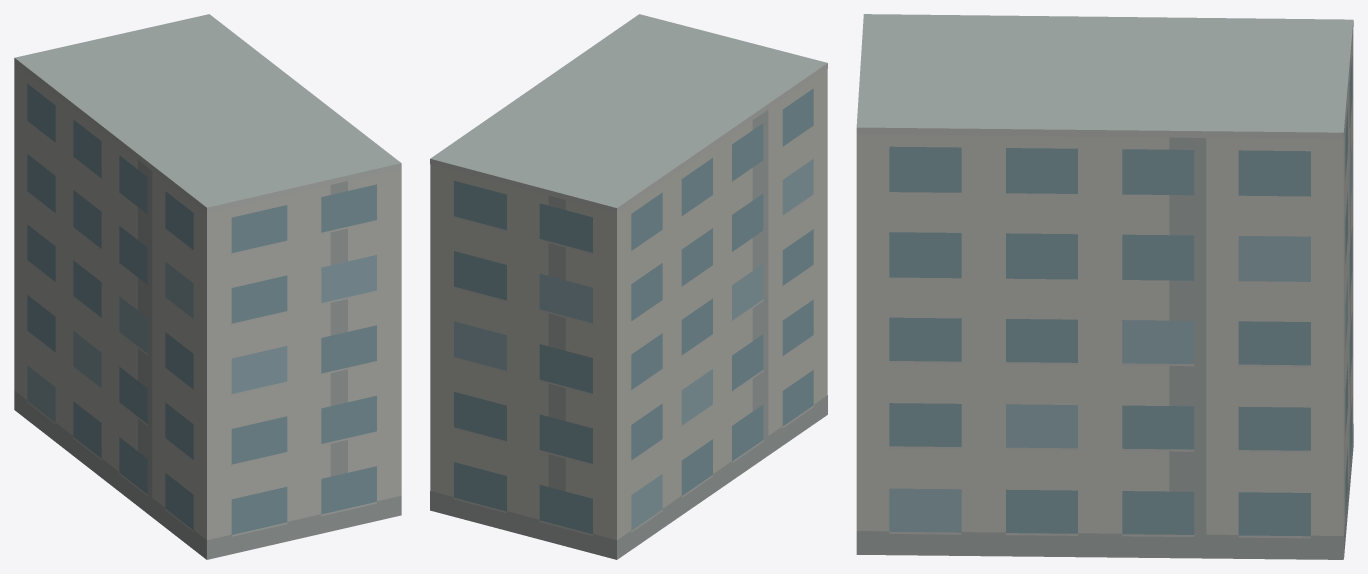
The model's file is survey-upis-32915247.glb.
The picture shows the model from 3 angles, left to right: view 1: azimuth 30°, elevation 25°; view 2: azimuth 150°, elevation 25°; view 3: azimuth 270°, elevation 25°; orthographic projection. The views are drawn at different scales.
Visible parts, largest first — view 1: survey-upis-32915247.tmp; view 2: survey-upis-32915247.tmp; view 3: survey-upis-32915247.tmp.
Part boxes in pixels (x1,y1,x2,y2): survey-upis-32915247.tmp: [14, 14, 401, 559]; survey-upis-32915247.tmp: [430, 14, 827, 559]; survey-upis-32915247.tmp: [856, 14, 1353, 559].
Size of the model in its own units: 9.15 by 15.35 by 16.19.
